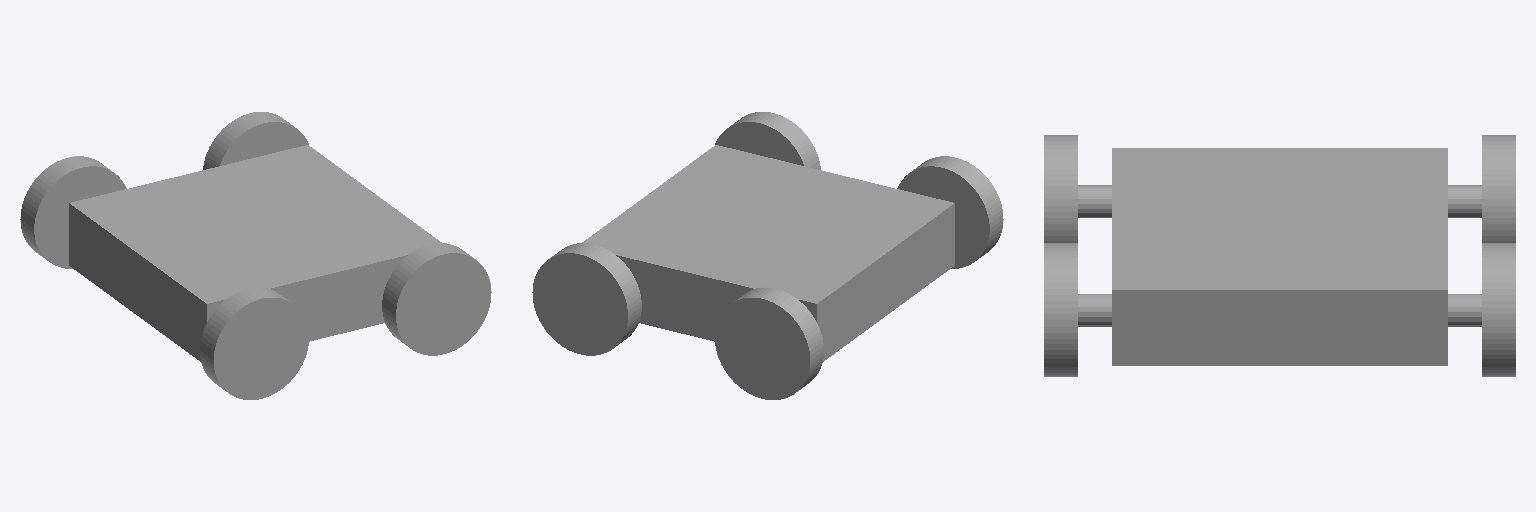
The robot description file, URDF, robot "car2":
<?xml version="1.0" ?>
<!-- =================================================================================== -->
<!-- |    This document was autogenerated by xacro from urdf/car2.xacro                | -->
<!-- |    EDITING THIS FILE BY HAND IS NOT RECOMMENDED                                 | -->
<!-- =================================================================================== -->
<robot xmlns:xacro="http://www.ros.org/wiki/xacro" name="car2">
  <material name="silver">
    <color rgba="0.700 0.700 0.700 1.000"/>
  </material>
  <transmission name="Revolute 1_tran">
    <type>transmission_interface/SimpleTransmission</type>
    <joint name="Revolute 1">
      <hardwareInterface>hardware_interface/EffortJointInterface</hardwareInterface>
    </joint>
    <actuator name="Revolute 1_actr">
      <hardwareInterface>hardware_interface/EffortJointInterface</hardwareInterface>
      <mechanicalReduction>1</mechanicalReduction>
    </actuator>
  </transmission>
  <transmission name="Revolute 2_tran">
    <type>transmission_interface/SimpleTransmission</type>
    <joint name="Revolute 2">
      <hardwareInterface>hardware_interface/EffortJointInterface</hardwareInterface>
    </joint>
    <actuator name="Revolute 2_actr">
      <hardwareInterface>hardware_interface/EffortJointInterface</hardwareInterface>
      <mechanicalReduction>1</mechanicalReduction>
    </actuator>
  </transmission>
  <transmission name="Revolute 3_tran">
    <type>transmission_interface/SimpleTransmission</type>
    <joint name="Revolute 3">
      <hardwareInterface>hardware_interface/EffortJointInterface</hardwareInterface>
    </joint>
    <actuator name="Revolute 3_actr">
      <hardwareInterface>hardware_interface/EffortJointInterface</hardwareInterface>
      <mechanicalReduction>1</mechanicalReduction>
    </actuator>
  </transmission>
  <transmission name="Revolute 4_tran">
    <type>transmission_interface/SimpleTransmission</type>
    <joint name="Revolute 4">
      <hardwareInterface>hardware_interface/EffortJointInterface</hardwareInterface>
    </joint>
    <actuator name="Revolute 4_actr">
      <hardwareInterface>hardware_interface/EffortJointInterface</hardwareInterface>
      <mechanicalReduction>1</mechanicalReduction>
    </actuator>
  </transmission>
  <gazebo>
    <plugin name="control" filename="libgazebo_ros_control.so"/>
  </gazebo>
  <gazebo reference="base_link">
    <material>Gazebo/Silver</material>
    <mu1>0.2</mu1>
    <mu2>0.2</mu2>
    <selfCollide>true</selfCollide>
    <gravity>true</gravity>
  </gazebo>
  <gazebo reference="back_right_1">
    <material>Gazebo/Silver</material>
    <mu1>0.2</mu1>
    <mu2>0.2</mu2>
    <selfCollide>true</selfCollide>
  </gazebo>
  <gazebo reference="front_right_1">
    <material>Gazebo/Silver</material>
    <mu1>0.2</mu1>
    <mu2>0.2</mu2>
    <selfCollide>true</selfCollide>
  </gazebo>
  <gazebo reference="back_left_1">
    <material>Gazebo/Silver</material>
    <mu1>0.2</mu1>
    <mu2>0.2</mu2>
    <selfCollide>true</selfCollide>
  </gazebo>
  <gazebo reference="front_left_1">
    <material>Gazebo/Silver</material>
    <mu1>0.2</mu1>
    <mu2>0.2</mu2>
    <selfCollide>true</selfCollide>
  </gazebo>
  <link name="base_link">
    <inertial>
      <origin xyz="-1.5502442144694733e-05 0.0 0.025000000000000005" rpy="0 0 0"/>
      <mass value="15.89729201864544"/>
      <inertia ixx="0.058003" iyy="0.056761" izz="0.108213" ixy="0.0" iyz="0.0" ixz="0.0"/>
    </inertial>
    <visual>
      <origin xyz="0 0 0" rpy="0 0 0"/>
      <geometry>
        <mesh filename="package://car2_description/meshes/base_link.stl" scale="0.001 0.001 0.001"/>
      </geometry>
      <material name="silver"/>
    </visual>
    <collision>
      <origin xyz="0 0 0" rpy="0 0 0"/>
      <geometry>
        <mesh filename="package://car2_description/meshes/base_link.stl" scale="0.001 0.001 0.001"/>
      </geometry>
    </collision>
  </link>
  <link name="back_right_1">
    <inertial>
      <origin xyz="-2.9518161701047596e-07 -0.010000000000000009 -6.938893903907228e-18" rpy="0 0 0"/>
      <mass value="0.7891680745817556"/>
      <inertia ixx="0.000342" iyy="0.000631" izz="0.000342" ixy="0.0" iyz="0.0" ixz="-0.0"/>
    </inertial>
    <visual>
      <origin xyz="0.077498 0.12 -0.025" rpy="0 0 0"/>
      <geometry>
        <mesh filename="package://car2_description/meshes/back_right_1.stl" scale="0.001 0.001 0.001"/>
      </geometry>
      <material name="silver"/>
    </visual>
    <collision>
      <origin xyz="0.077498 0.12 -0.025" rpy="0 0 0"/>
      <geometry>
        <mesh filename="package://car2_description/meshes/back_right_1.stl" scale="0.001 0.001 0.001"/>
      </geometry>
    </collision>
  </link>
  <link name="front_right_1">
    <inertial>
      <origin xyz="0.0 -0.010000000000000009 -6.938893903907228e-18" rpy="0 0 0"/>
      <mass value="0.789168074581756"/>
      <inertia ixx="0.000342" iyy="0.000631" izz="0.000342" ixy="0.0" iyz="-0.0" ixz="-0.0"/>
    </inertial>
    <visual>
      <origin xyz="-0.075 0.12 -0.025" rpy="0 0 0"/>
      <geometry>
        <mesh filename="package://car2_description/meshes/front_right_1.stl" scale="0.001 0.001 0.001"/>
      </geometry>
      <material name="silver"/>
    </visual>
    <collision>
      <origin xyz="-0.075 0.12 -0.025" rpy="0 0 0"/>
      <geometry>
        <mesh filename="package://car2_description/meshes/front_right_1.stl" scale="0.001 0.001 0.001"/>
      </geometry>
    </collision>
  </link>
  <link name="back_left_1">
    <inertial>
      <origin xyz="-2.9518161701047596e-07 0.010000000000000009 -6.938893903907228e-18" rpy="0 0 0"/>
      <mass value="0.7891680745817556"/>
      <inertia ixx="0.000342" iyy="0.000631" izz="0.000342" ixy="-0.0" iyz="0.0" ixz="-0.0"/>
    </inertial>
    <visual>
      <origin xyz="0.077498 -0.12 -0.025" rpy="0 0 0"/>
      <geometry>
        <mesh filename="package://car2_description/meshes/back_left_1.stl" scale="0.001 0.001 0.001"/>
      </geometry>
      <material name="silver"/>
    </visual>
    <collision>
      <origin xyz="0.077498 -0.12 -0.025" rpy="0 0 0"/>
      <geometry>
        <mesh filename="package://car2_description/meshes/back_left_1.stl" scale="0.001 0.001 0.001"/>
      </geometry>
    </collision>
  </link>
  <link name="front_left_1">
    <inertial>
      <origin xyz="0.0 0.010000000000000009 -6.938893903907228e-18" rpy="0 0 0"/>
      <mass value="0.789168074581756"/>
      <inertia ixx="0.000342" iyy="0.000631" izz="0.000342" ixy="-0.0" iyz="0.0" ixz="-0.0"/>
    </inertial>
    <visual>
      <origin xyz="-0.075 -0.12 -0.025" rpy="0 0 0"/>
      <geometry>
        <mesh filename="package://car2_description/meshes/front_left_1.stl" scale="0.001 0.001 0.001"/>
      </geometry>
      <material name="silver"/>
    </visual>
    <collision>
      <origin xyz="-0.075 -0.12 -0.025" rpy="0 0 0"/>
      <geometry>
        <mesh filename="package://car2_description/meshes/front_left_1.stl" scale="0.001 0.001 0.001"/>
      </geometry>
    </collision>
  </link>
  <joint name="Revolute 1" type="continuous">
    <origin xyz="-0.077498 -0.12 0.025" rpy="0 0 0"/>
    <parent link="base_link"/>
    <child link="back_right_1"/>
    <axis xyz="0.0 -1.0 0.0"/>
  </joint>
  <joint name="Revolute 2" type="continuous">
    <origin xyz="0.075 -0.12 0.025" rpy="0 0 0"/>
    <parent link="base_link"/>
    <child link="front_right_1"/>
    <axis xyz="0.0 -1.0 0.0"/>
  </joint>
  <joint name="Revolute 3" type="continuous">
    <origin xyz="-0.077498 0.12 0.025" rpy="0 0 0"/>
    <parent link="base_link"/>
    <child link="back_left_1"/>
    <axis xyz="0.0 1.0 0.0"/>
  </joint>
  <joint name="Revolute 4" type="continuous">
    <origin xyz="0.075 0.12 0.025" rpy="0 0 0"/>
    <parent link="base_link"/>
    <child link="front_left_1"/>
    <axis xyz="0.0 1.0 0.0"/>
  </joint>
</robot>

--- What the picture shows (computed from the rendered views, not written in the file) ---
3 views of the same robot in one strip: view 1: azimuth 30°, elevation 25°; view 2: azimuth 150°, elevation 25°; view 3: azimuth 270°, elevation 25° (orthographic).
Robot: car2 — 5 links, 4 joints (4 continuous); root link base_link; default pose: every joint at zero.
Visible links, largest first — view 1: base_link, front_right_1, back_right_1, back_left_1, front_left_1; view 2: base_link, front_left_1, back_left_1, back_right_1, front_right_1; view 3: base_link, front_right_1, front_left_1, back_right_1, back_left_1.
Link boxes in pixels (left/top/right/bottom): base_link: left=69, top=145, right=441, bottom=361; front_right_1: left=382, top=243, right=491, bottom=355; back_right_1: left=200, top=287, right=308, bottom=399; back_left_1: left=20, top=156, right=126, bottom=268; front_left_1: left=203, top=112, right=308, bottom=169; base_link: left=582, top=145, right=954, bottom=361; front_left_1: left=532, top=243, right=641, bottom=355; back_left_1: left=715, top=287, right=823, bottom=399; back_right_1: left=897, top=156, right=1003, bottom=268; front_right_1: left=715, top=112, right=820, bottom=169; base_link: left=1078, top=148, right=1481, bottom=365; front_right_1: left=1044, top=243, right=1077, bottom=376; front_left_1: left=1482, top=243, right=1515, bottom=376; back_right_1: left=1044, top=135, right=1077, bottom=242; back_left_1: left=1482, top=135, right=1515, bottom=242.
Bounding box of the posed robot: 0.2325 × 0.28 × 0.0799 m (x, y, z).
Meshes: 5 distinct files referenced, 5 mesh visuals loaded (5 binary STL).